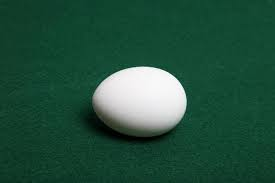eggs: (90, 65, 183, 138)
